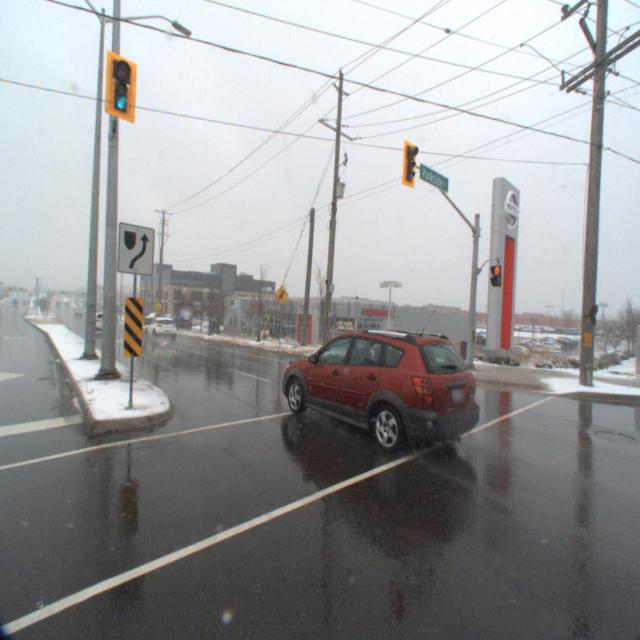Car: (290, 298, 534, 486)
